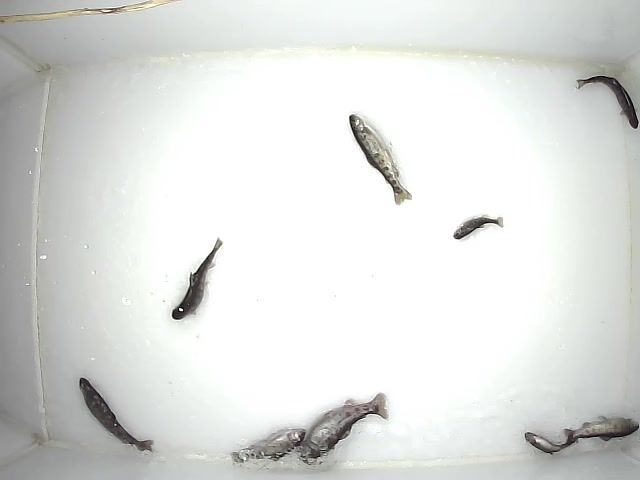fish: (301, 391, 391, 465), (346, 112, 413, 206), (76, 376, 155, 452), (168, 235, 225, 321), (575, 74, 638, 135), (230, 425, 307, 466), (563, 413, 640, 443), (521, 429, 580, 456), (450, 213, 505, 241)
